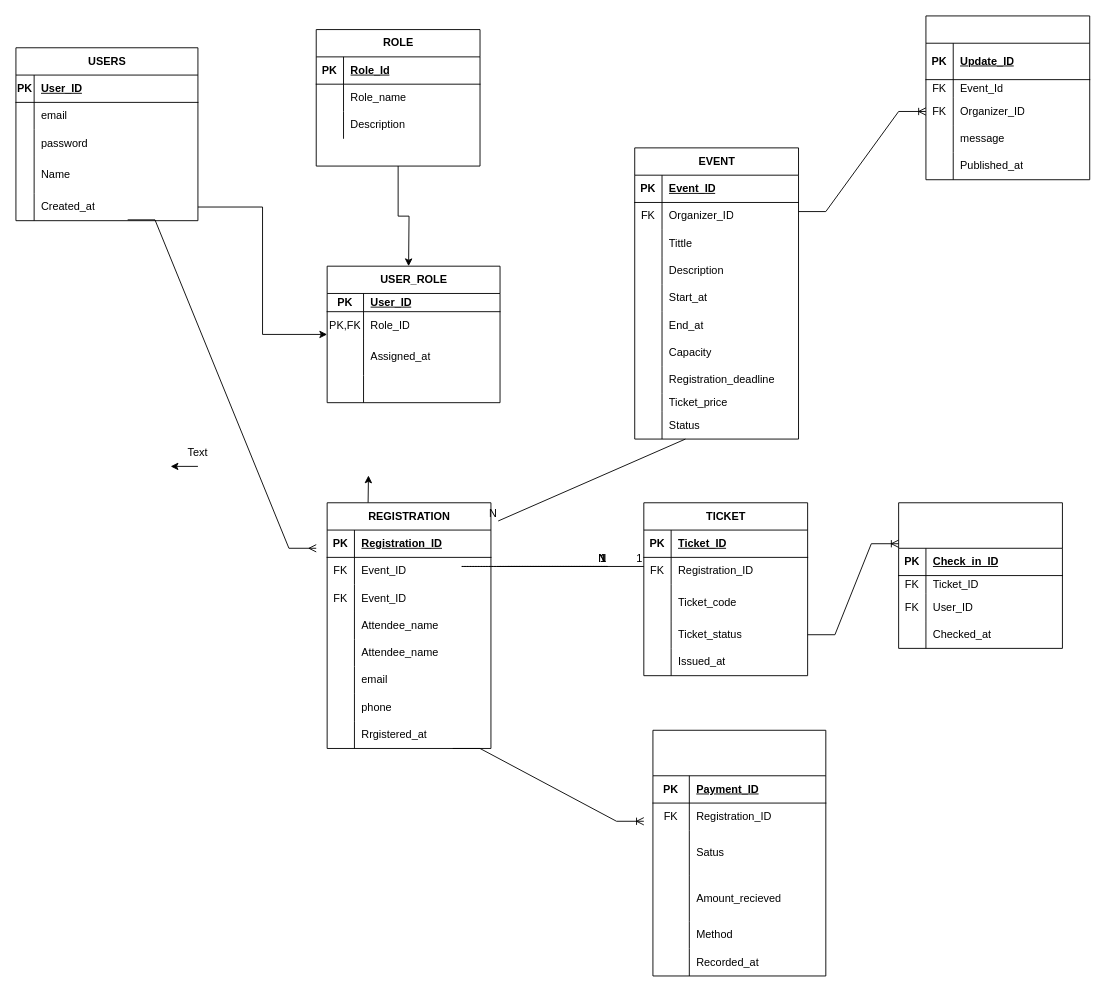
The diagram is 1106 pixels wide and 992 high, and some of its shapes have lost their labels. Here are the shapes that lost their labels. From the top down, the box of each, then its label:
(925, 15, 1090, 180): EVENT_UPDATE
(898, 502, 1062, 648): CHECKED_IN
(652, 729, 826, 976): PAYMENT_RECORDER
